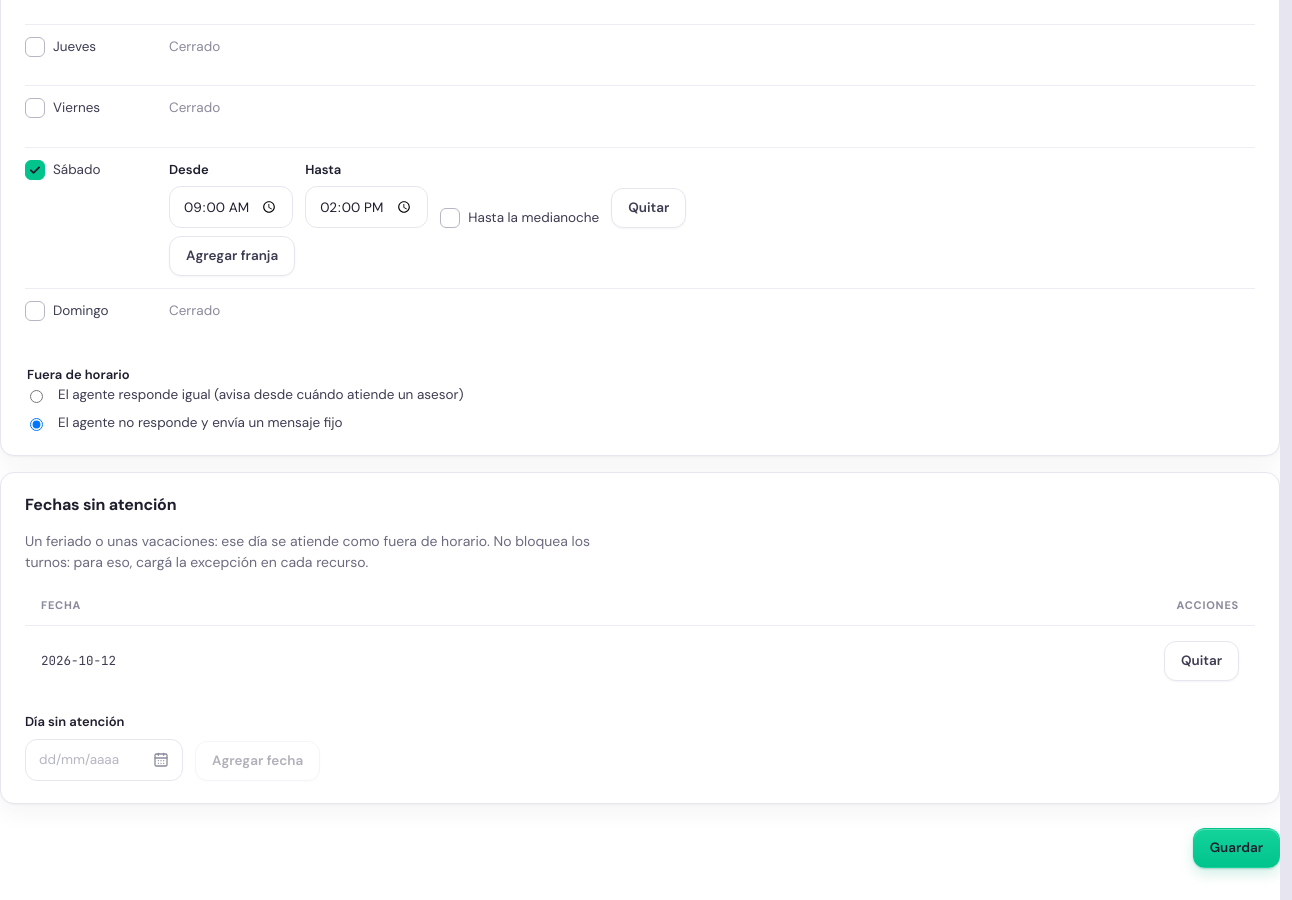
Test: guardar › muestra el mensaje de validación del backend
(page scrolled)
Click the button "Guardar" at {"x": 1236, "y": 848}, box [1193,828,1280,868]
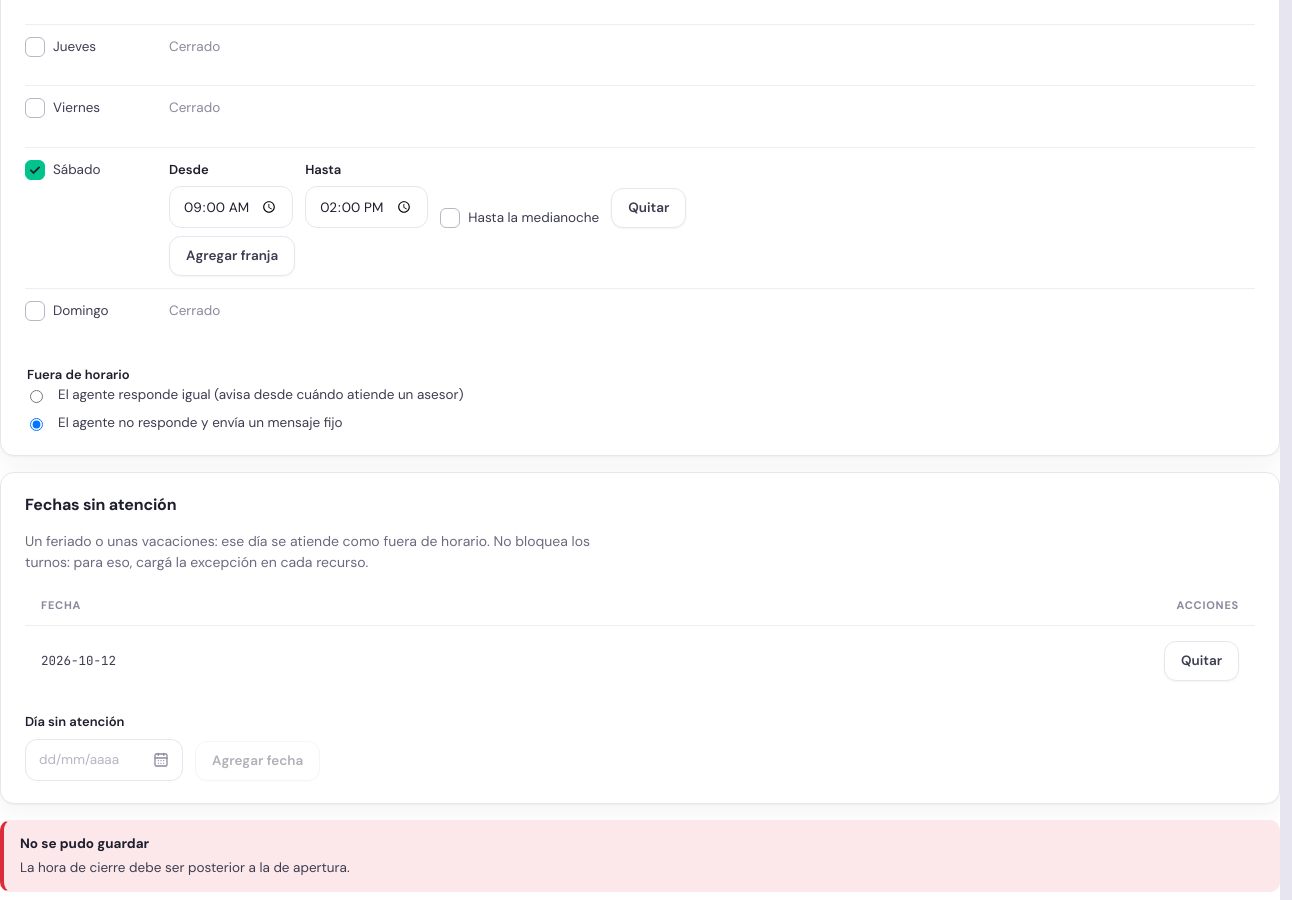
Result: the text "La hora de cierre debe ser posterior a la de apertura." is shown at [20,859,350,876]
